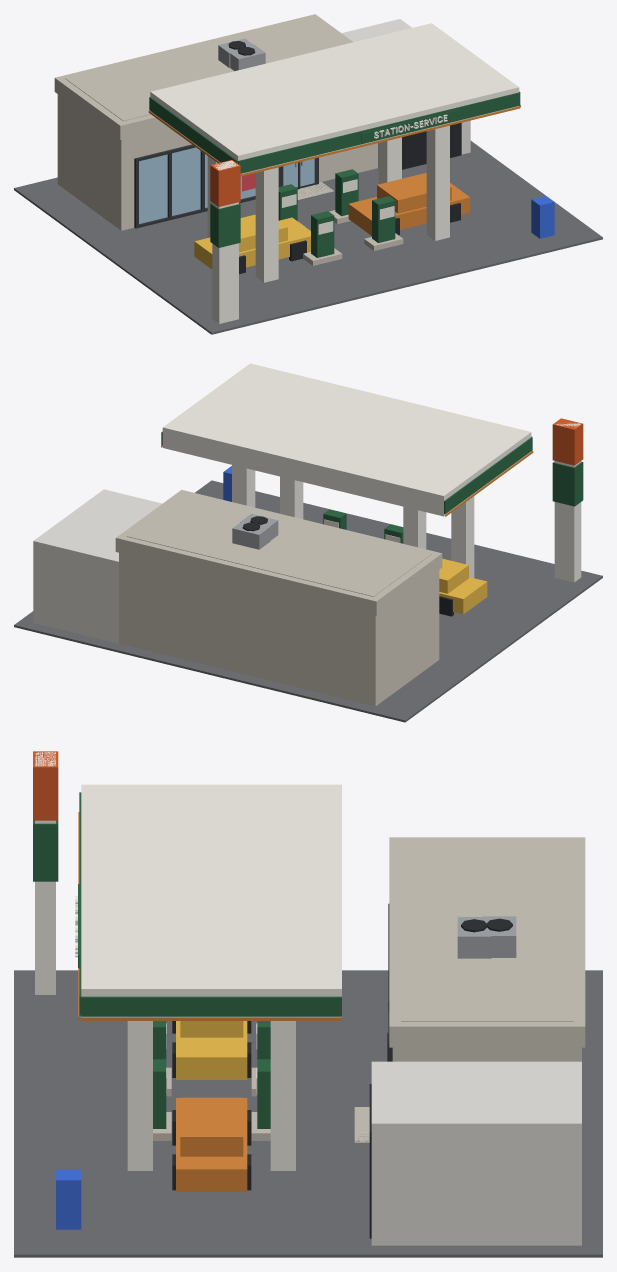
Rendered from Dukkan_cadde_benzinlik_Hafif.fbx.
3 renders of one model, top to bottom at view 1: azimuth 30°, elevation 25°; view 2: azimuth 150°, elevation 25°; view 3: azimuth 270°, elevation 25°, orthographic. The views are drawn at different scales.
Visible parts, largest first — view 1: Dukkan_cadde_benzinlik_Hafif; view 2: Dukkan_cadde_benzinlik_Hafif; view 3: Dukkan_cadde_benzinlik_Hafif.
Boxes of the visible parts, x1,y1,x2,y2 form: Dukkan_cadde_benzinlik_Hafif: (14, 14, 602, 334); Dukkan_cadde_benzinlik_Hafif: (14, 363, 602, 722); Dukkan_cadde_benzinlik_Hafif: (14, 751, 602, 1257).
Size of the model in its own units: 16 by 6.12 by 14.
